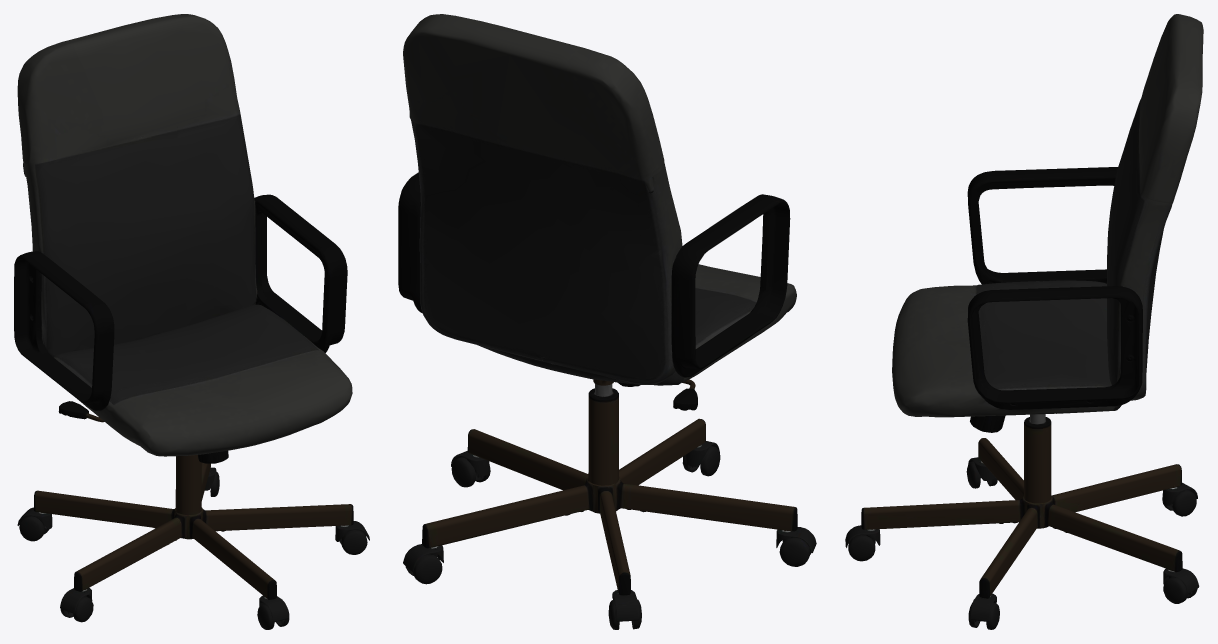
Rendered from renberget_krzeso_obrotowe_60493546.glb.
3 renders of one model, left to right at view 1: azimuth 30°, elevation 25°; view 2: azimuth 150°, elevation 25°; view 3: azimuth 270°, elevation 25°, orthographic. The views are drawn at different scales.
Visible parts, largest first — view 1: renberget_krzeso_obrotowe_60493546; view 2: renberget_krzeso_obrotowe_60493546; view 3: renberget_krzeso_obrotowe_60493546.
Part boxes in pixels (box(x1,y1,x2,y2)): renberget_krzeso_obrotowe_60493546: box(14, 14, 369, 629); renberget_krzeso_obrotowe_60493546: box(398, 14, 816, 629); renberget_krzeso_obrotowe_60493546: box(845, 14, 1203, 629).
Bounding box in the file's own units: 0.6772 × 1.03 × 0.6539.
1 material, 1 textured.
